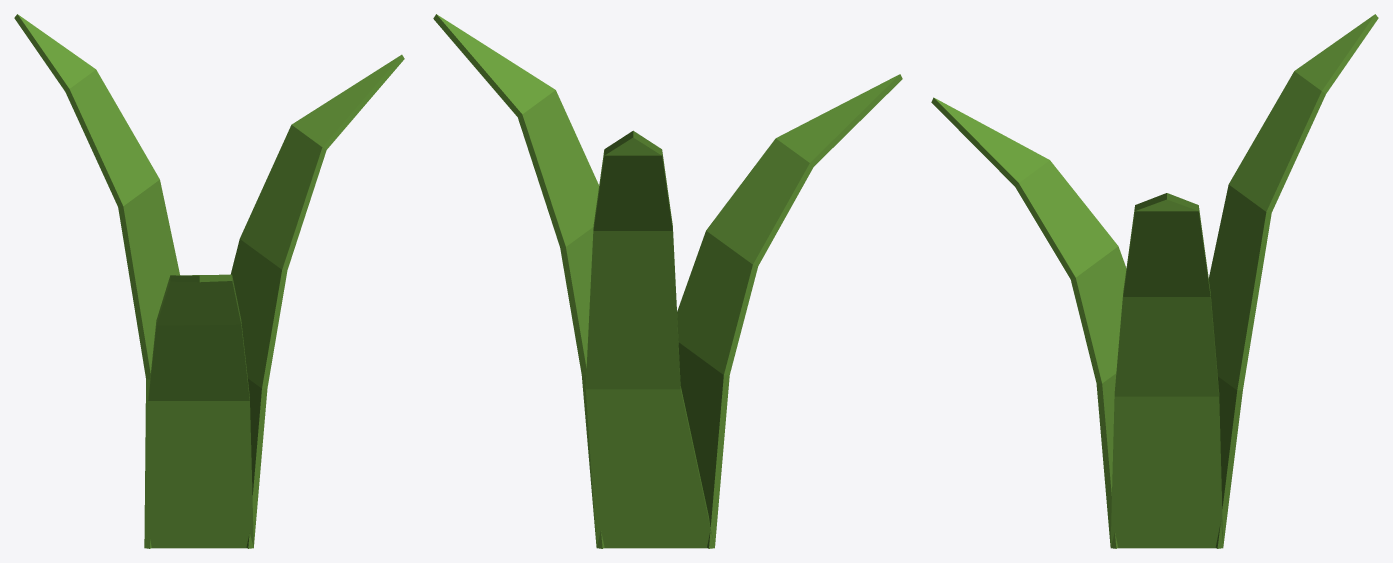
Rendered from Grass_1.fbx.
3 renders of one model, left to right at view 1: azimuth 30°, elevation 25°; view 2: azimuth 150°, elevation 25°; view 3: azimuth 270°, elevation 25°, orthographic. The views are drawn at different scales.
Parts seen in each view (by area): view 1: Grass_1; view 2: Grass_1; view 3: Grass_1.
Part boxes in pixels (left/top/right/bottom): Grass_1: left=14, top=14, right=404, bottom=548; Grass_1: left=433, top=14, right=902, bottom=548; Grass_1: left=931, top=14, right=1378, bottom=548.
Bounding box in the file's own units: 56.83 × 79.25 × 66.96.
1 material, 1 textured.
